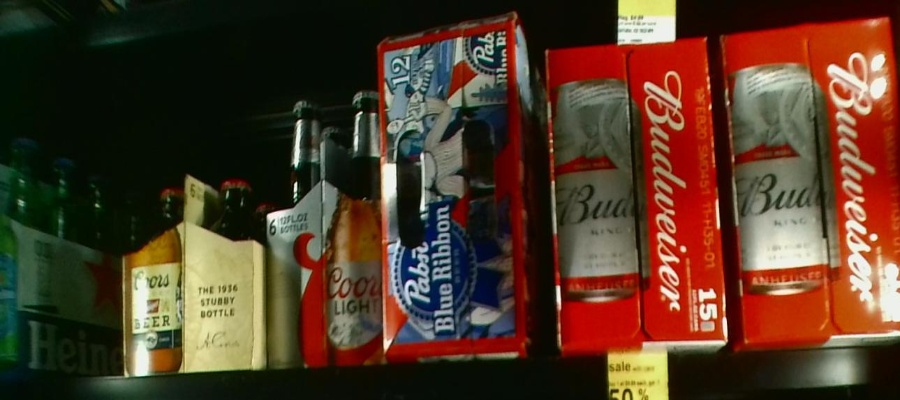bottle: (719, 25, 900, 353), (545, 37, 729, 354), (382, 27, 536, 353), (268, 77, 380, 361), (120, 173, 264, 369)
